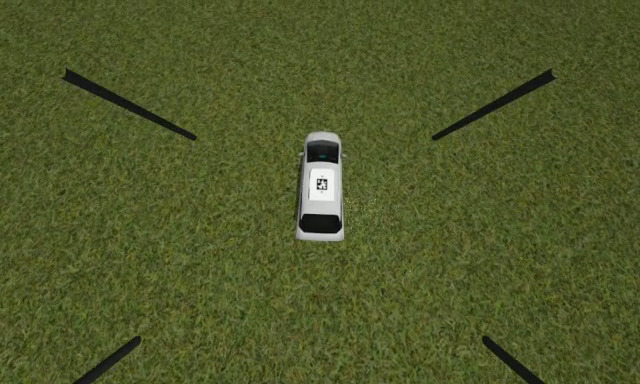Car: (297, 130, 346, 244)
Landing Pad: (309, 169, 336, 201)
